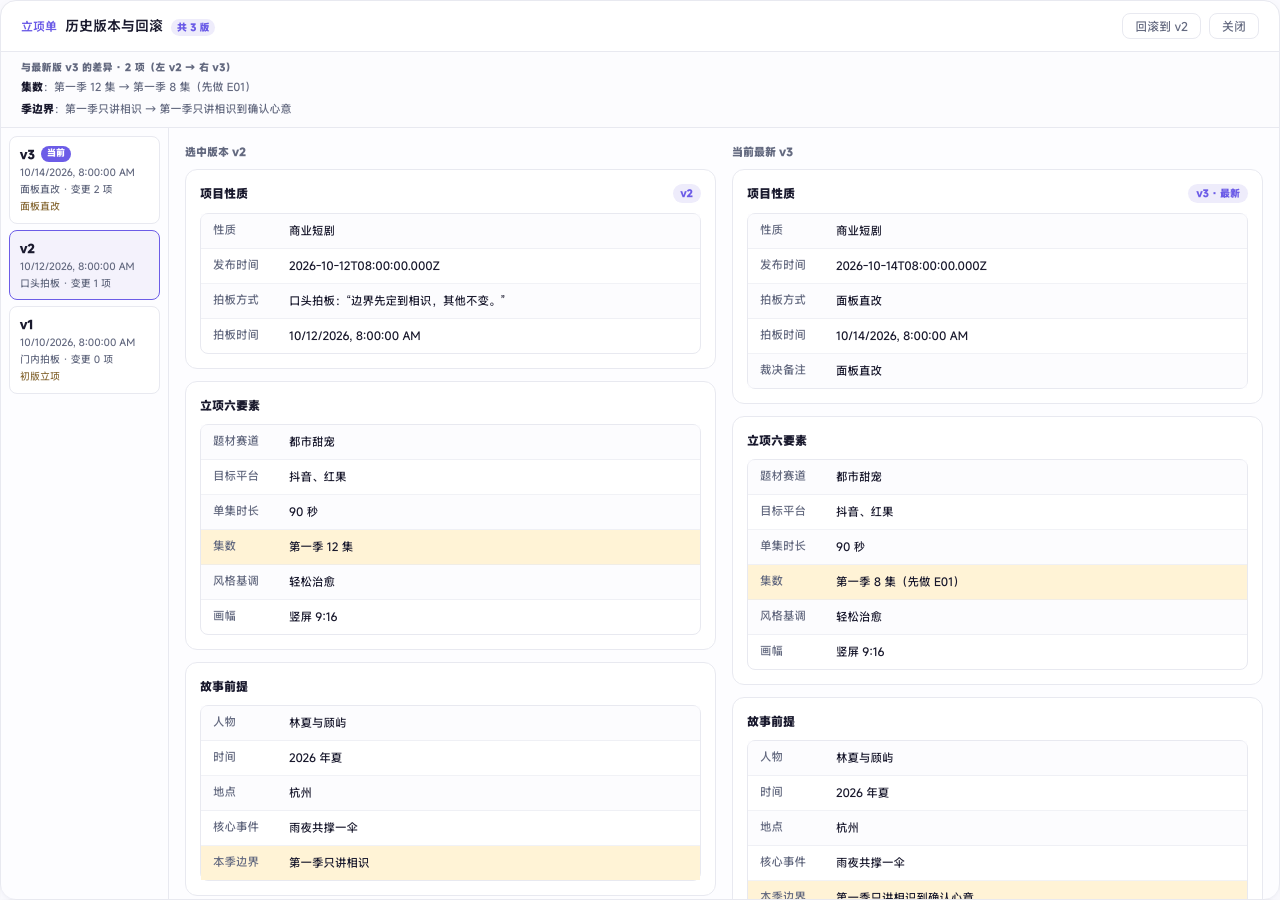
BriefHistoryView · 回滚（AC7） › 回滚失败 → 错误条展示、确认框关闭、历史视图保留
Click the button with test id "brief-history-rollback" at (1162, 26), box [1122, 13, 1201, 39]
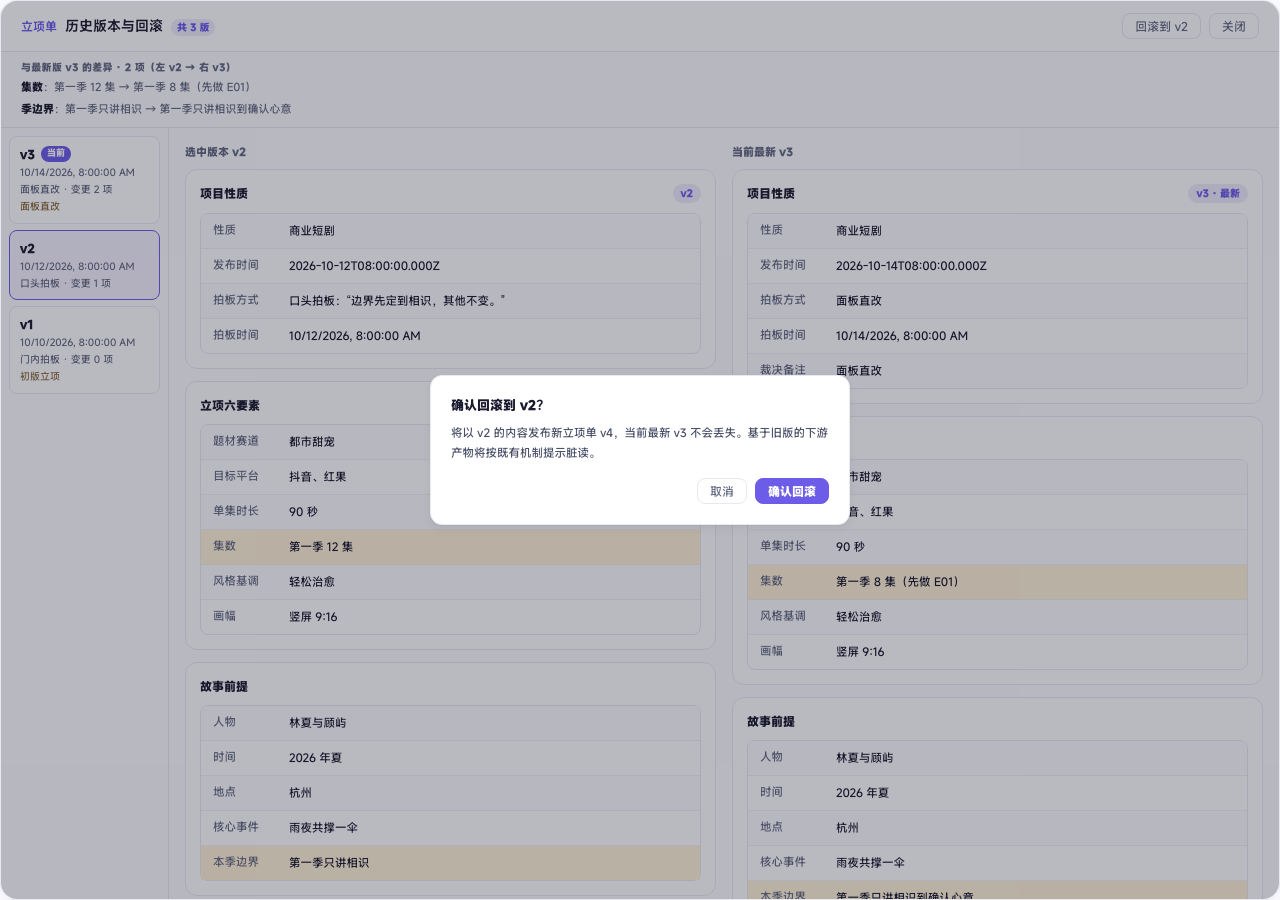
Result: the element with test id "brief-history-rollback-confirm" is shown at [430, 375, 850, 525]
Click the button "确认回滚" at (792, 491), box [755, 478, 829, 504]
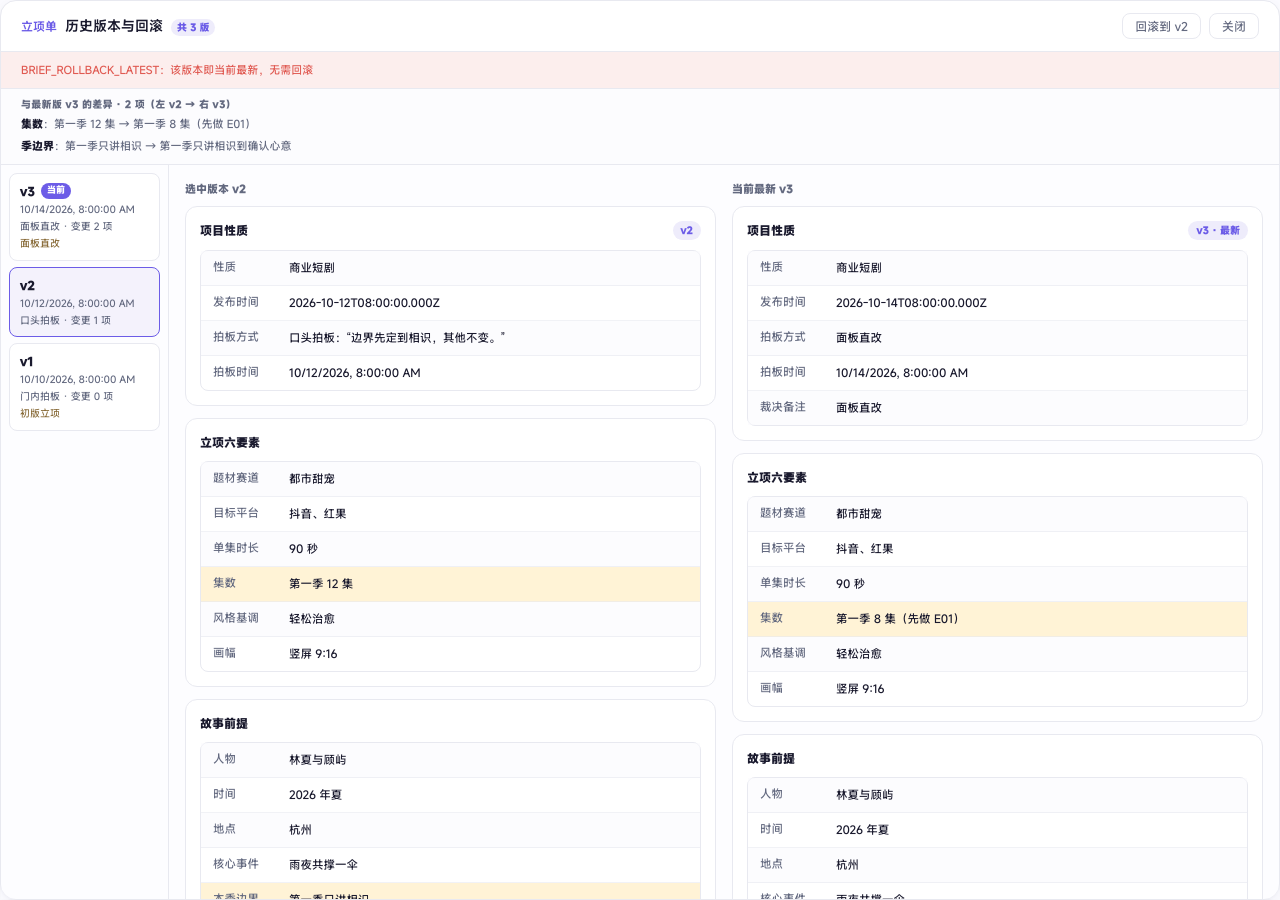
Result: the text "BRIEF_ROLLBACK_LATEST：该版本即当前最新，无需回滚" is shown at [1, 52, 1279, 89]
Result: the element with test id "brief-history-rollback-confirm" is gone
